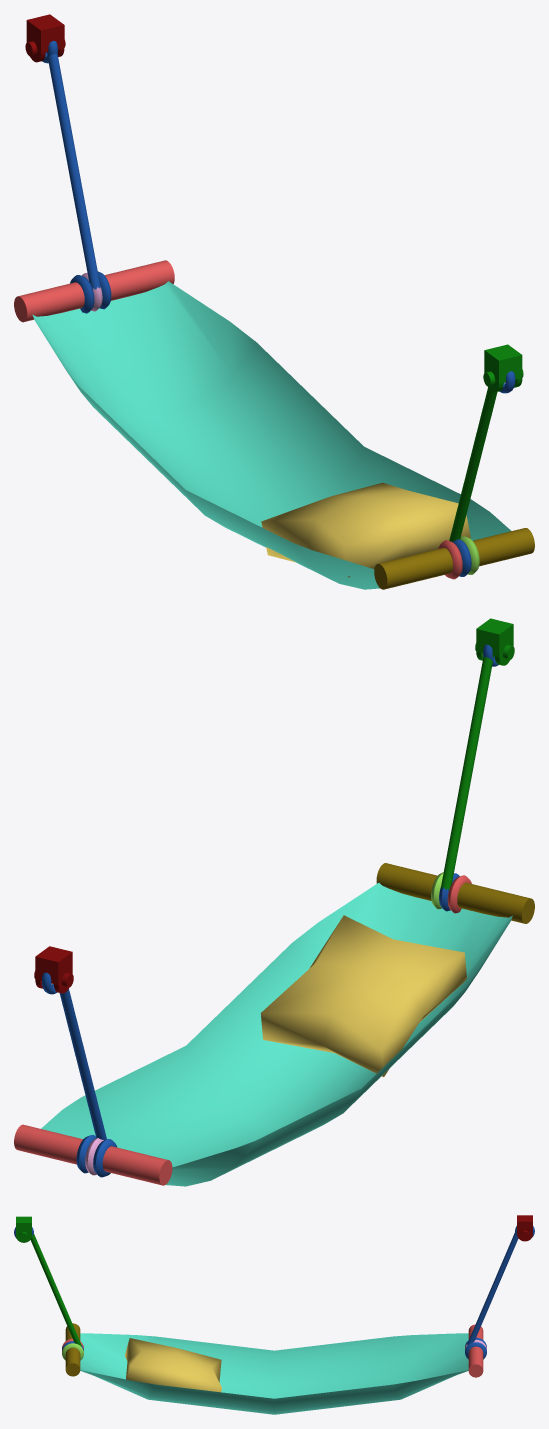
The picture shows the model from 3 angles, top to bottom: view 1: azimuth 30°, elevation 25°; view 2: azimuth 150°, elevation 25°; view 3: azimuth 270°, elevation 25°; orthographic projection. The views are drawn at different scales.
Parts seen in each view (by area): view 1: Group_001, Group_002, Gruppe_298_001, Gruppe_298_003, Group_011, Group_006, Gruppe_213_001, Gruppe_213_002; view 2: Group_001, Group_002, Gruppe_298_003, Gruppe_298_001, Group_006, Group_011, Gruppe_213_001, Gruppe_213_002; view 3: Group_001, Group_002, Group_011, Group_006, Gruppe_298_003, Gruppe_298_001, Gruppe_213_001, Gruppe_213_002.
Part boxes in pixels (<box>): Group_001: <box>32,281,511,589</box>; Group_002: <box>261,482,470,577</box>; Gruppe_298_001: <box>374,528,534,589</box>; Gruppe_298_003: <box>14,260,174,322</box>; Group_011: <box>47,52,100,289</box>; Group_006: <box>449,387,497,541</box>; Gruppe_213_001: <box>483,344,523,392</box>; Gruppe_213_002: <box>25,14,65,62</box>; Group_001: <box>41,883,512,1186</box>; Group_002: <box>260,915,466,1076</box>; Gruppe_298_003: <box>14,1124,172,1185</box>; Gruppe_298_001: <box>376,863,534,923</box>; Group_006: <box>441,655,493,890</box>; Group_011: <box>59,989,106,1140</box>; Gruppe_213_001: <box>475,618,514,665</box>; Gruppe_213_002: <box>34,946,73,993</box>; Group_001: <box>80,1333,468,1414</box>; Group_002: <box>125,1338,221,1392</box>; Group_011: <box>467,1232,518,1345</box>; Group_006: <box>30,1234,81,1346</box>; Gruppe_298_003: <box>468,1324,483,1377</box>; Gruppe_298_001: <box>65,1323,80,1376</box>; Gruppe_213_001: <box>16,1216,31,1242</box>; Gruppe_213_002: <box>517,1215,532,1241</box>.
Bounding box in the file's own units: 21.71 × 39.94 × 99.37.
